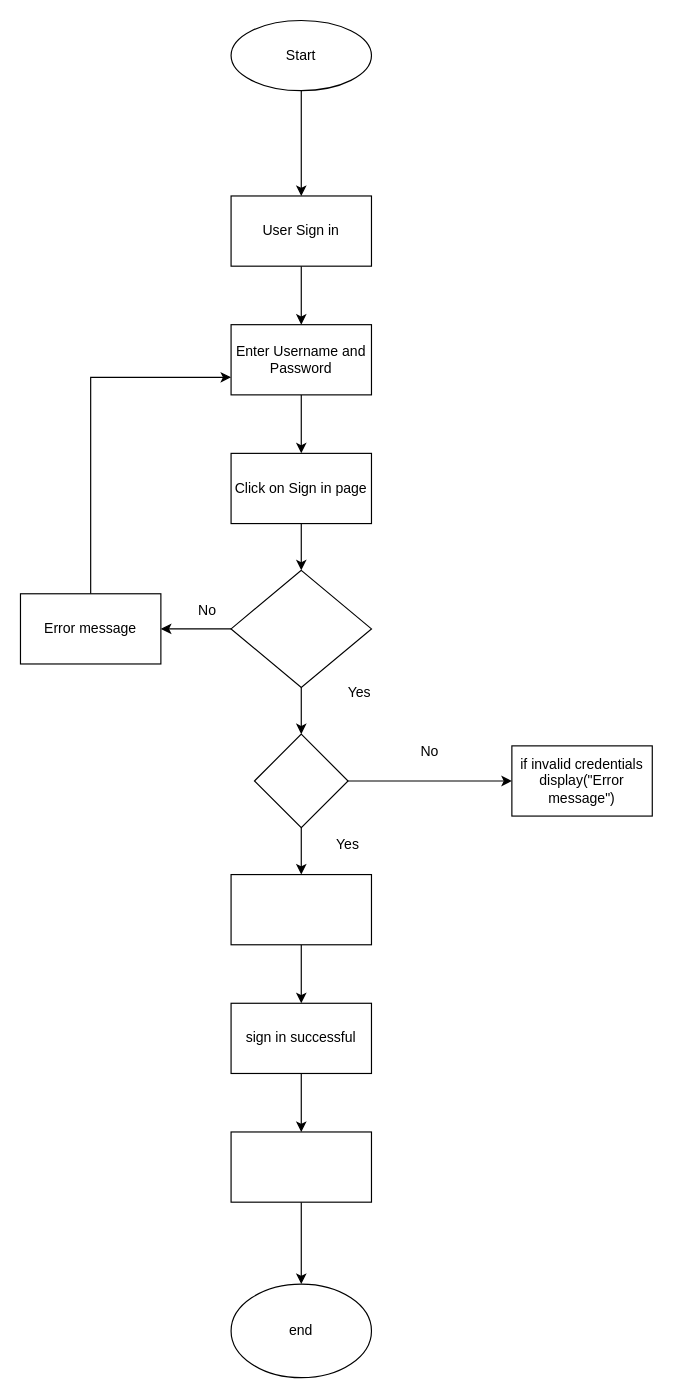
Image size: 673x1398. Some labels were removed from this diagram. The centre of each missing label's shape, as x and y in pixels:
"Check all fields are completed" goes at point 300,628.
"proceed to next" goes at point 300,909.
"Redirect to dashboard/home page" goes at point 300,1166.
"Validate credentials" goes at point 300,780.
